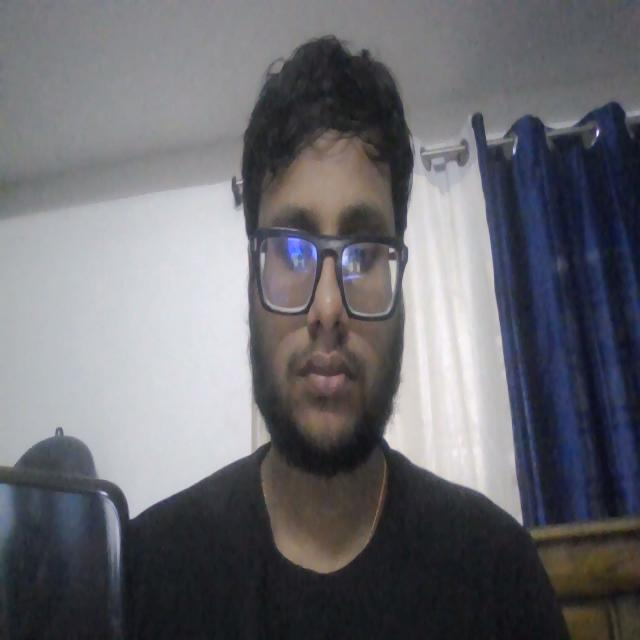phone: (0, 470, 130, 640)
